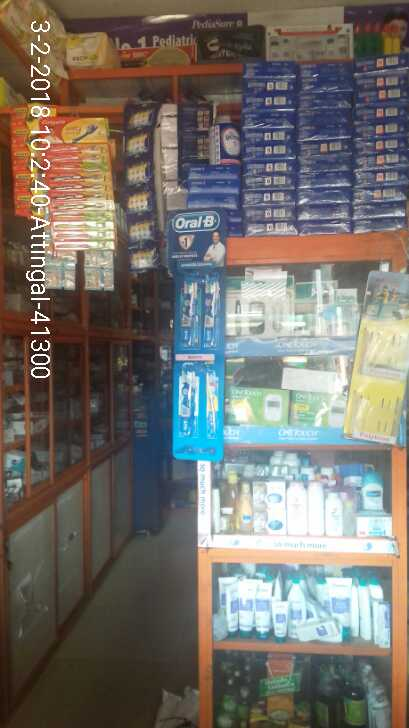oralb: (177, 361, 198, 436), (200, 276, 218, 349), (182, 277, 197, 347)
